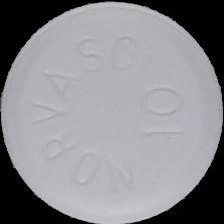49999-478: (0, 0, 224, 224)
